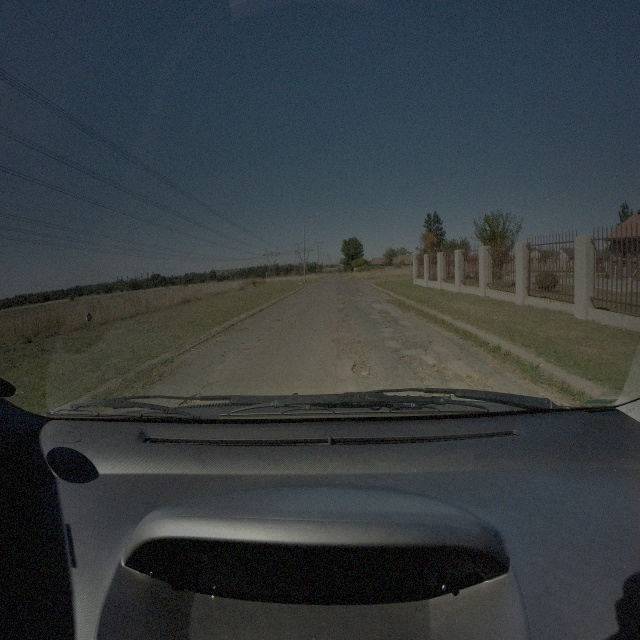pothole: (464, 369, 496, 394), (333, 334, 368, 353), (178, 394, 204, 412), (351, 360, 370, 378), (431, 364, 452, 379), (399, 353, 418, 363), (337, 316, 352, 327), (379, 309, 390, 318)
